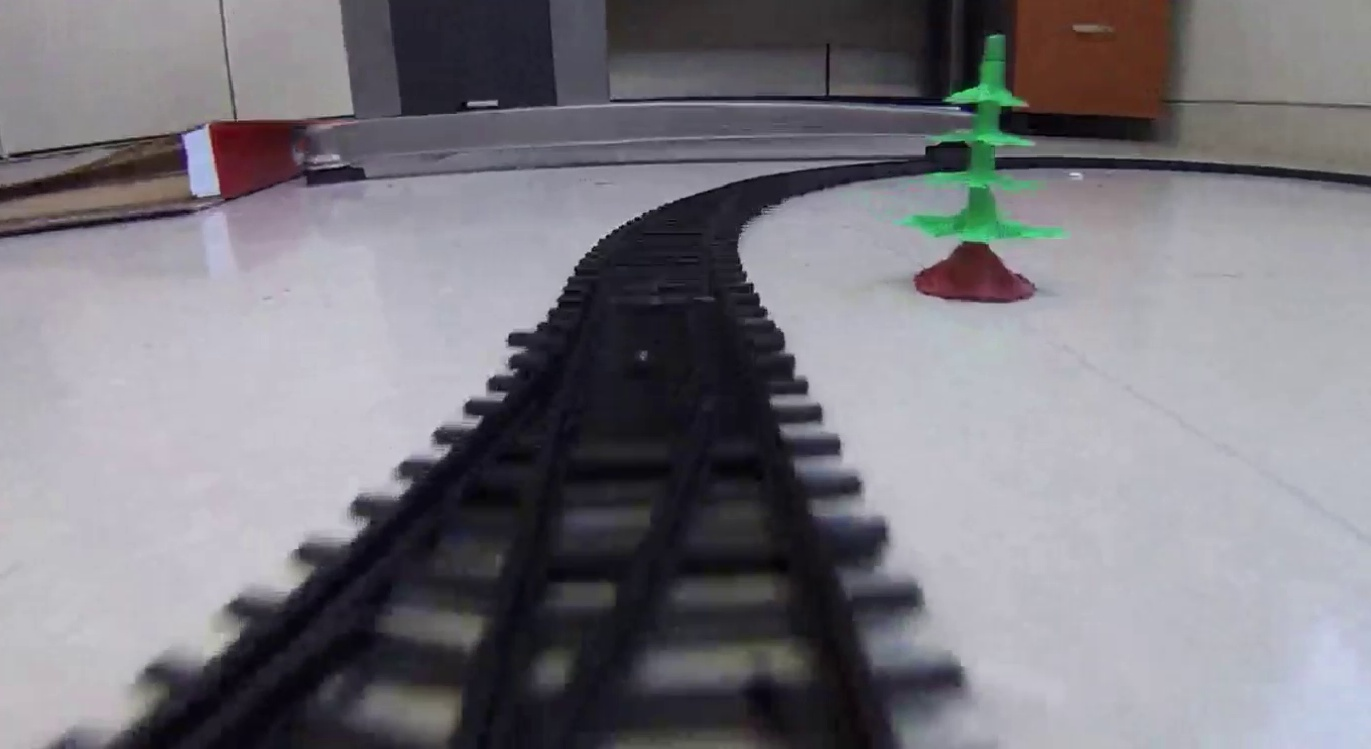tree: (895, 34, 1069, 304)
